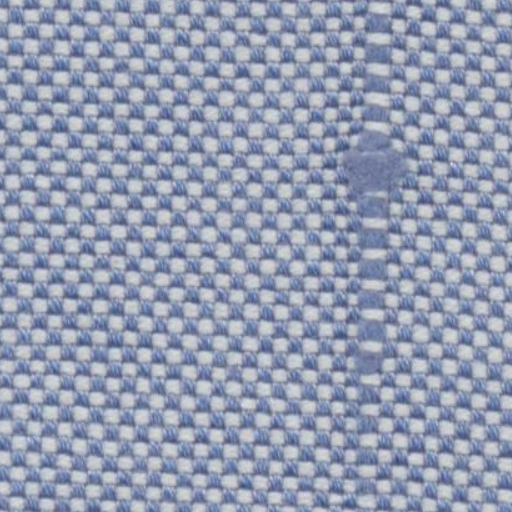DaiSha: (340, 6, 412, 444)
